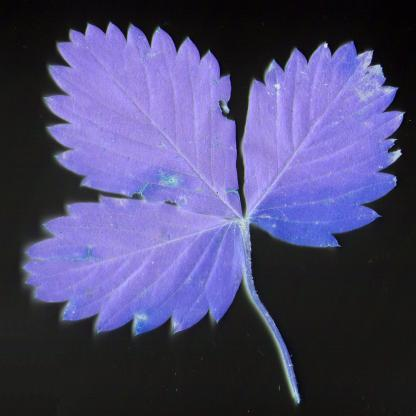strawberry leaf: (40, 15, 249, 226), (247, 31, 412, 248), (20, 196, 256, 339)
